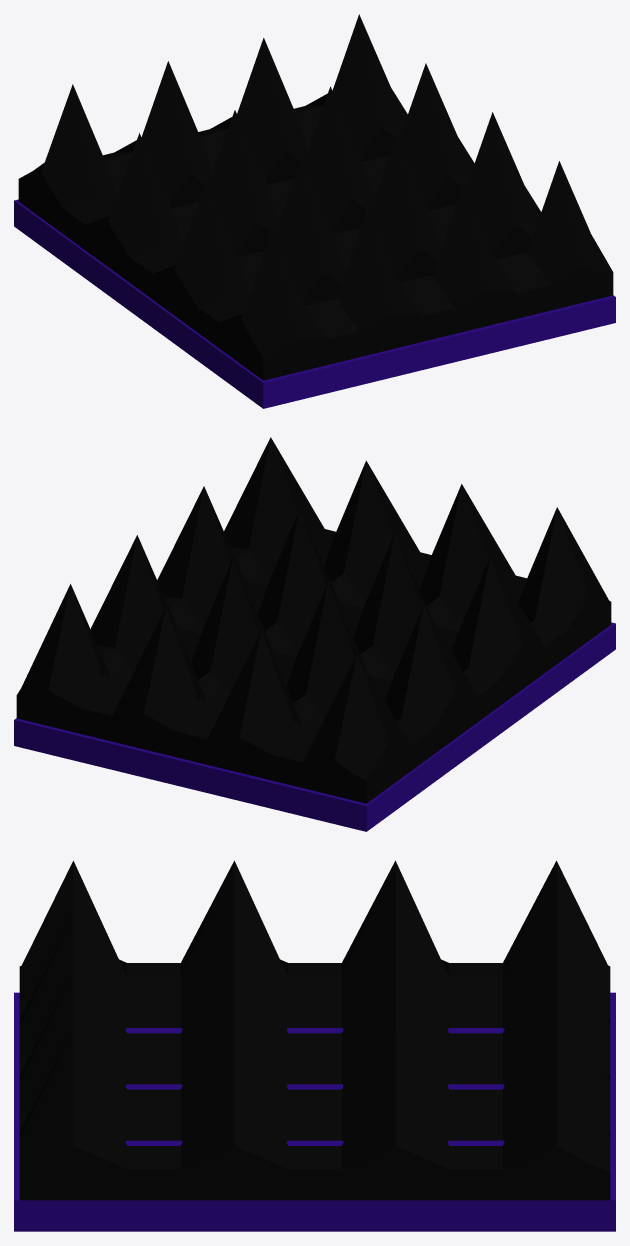
File: SpikeFloor_2.fbx
The picture shows the model from 3 angles, top to bottom: view 1: azimuth 30°, elevation 25°; view 2: azimuth 150°, elevation 25°; view 3: azimuth 270°, elevation 25°; orthographic projection. The views are drawn at different scales.
Parts seen in each view (by area): view 1: Cube, Cube.001; view 2: Cube, Cube.001; view 3: Cube, Cube.001.
Boxes of the visible parts, x1=… form: Cube: x1=18, y1=14, x2=613, y2=380; Cube.001: x1=14, y1=199, x2=615, y2=408; Cube: x1=16, y1=437, x2=611, y2=803; Cube.001: x1=14, y1=622, x2=615, y2=831; Cube: x1=19, y1=860, x2=610, y2=1200; Cube.001: x1=14, y1=992, x2=615, y2=1231.
Size of the model in its own units: 601 by 248 by 736.
